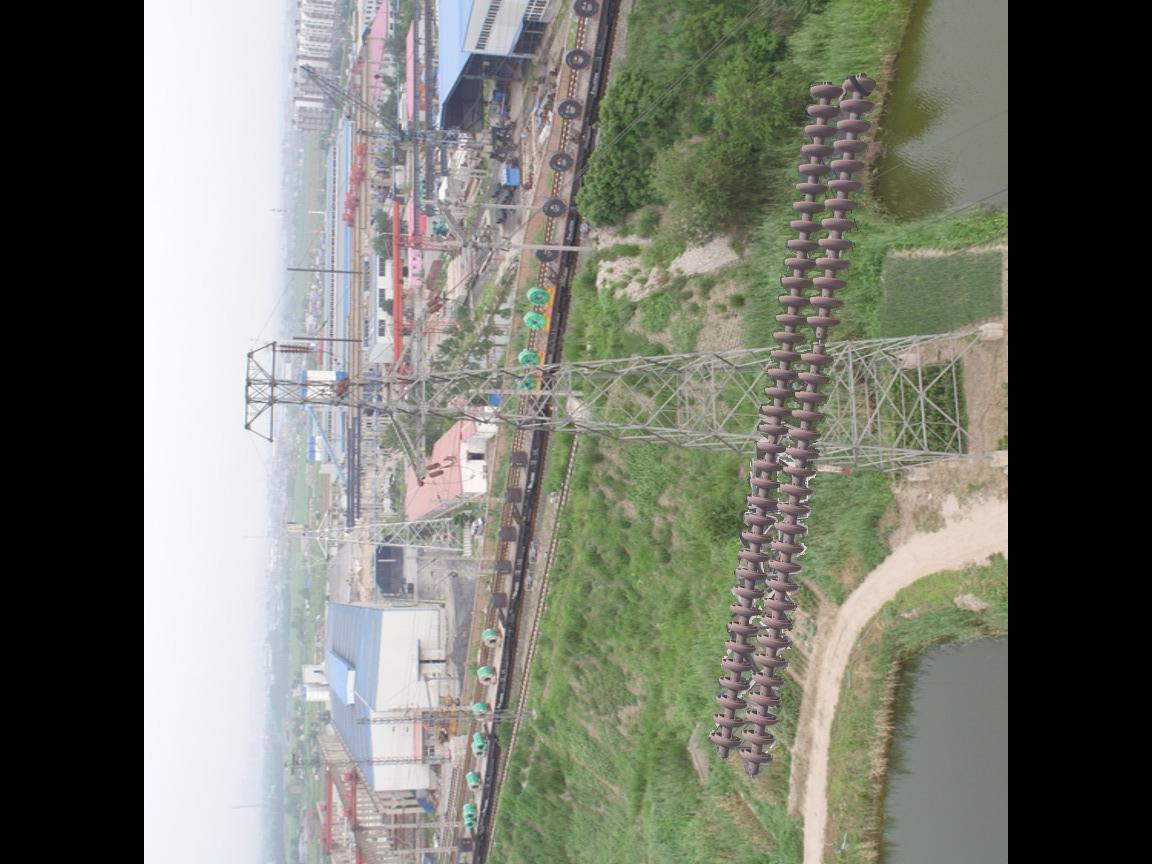insulator: (706, 69, 880, 780)
insulator_stringdrop: (798, 311, 846, 368)
